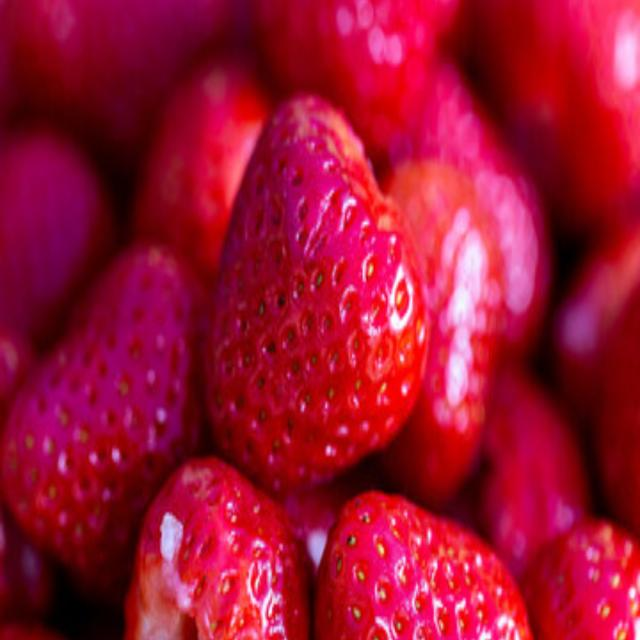strawberry: (199, 43, 423, 492)
